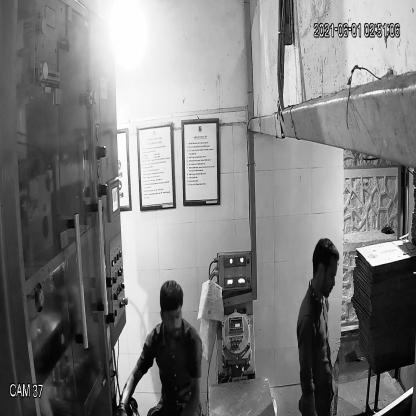no_goggles: (160, 306, 185, 326)
